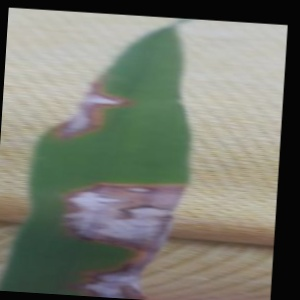Brown_Spot: (53, 171, 189, 252), (40, 83, 138, 149), (78, 261, 157, 300)
